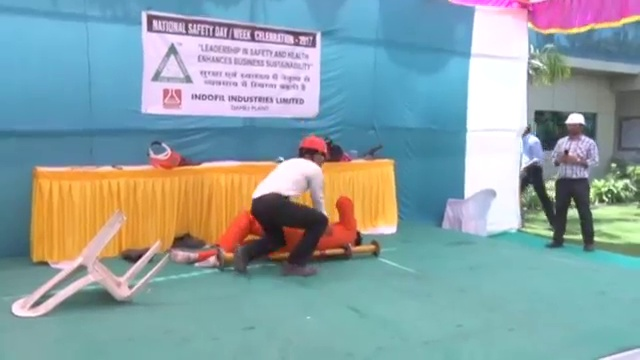helmet: (297, 134, 329, 157), (563, 111, 588, 128)
helmet_on: (296, 134, 328, 170), (561, 110, 589, 141)
person: (230, 134, 330, 278), (173, 196, 371, 252), (548, 110, 597, 254), (519, 124, 555, 227)
